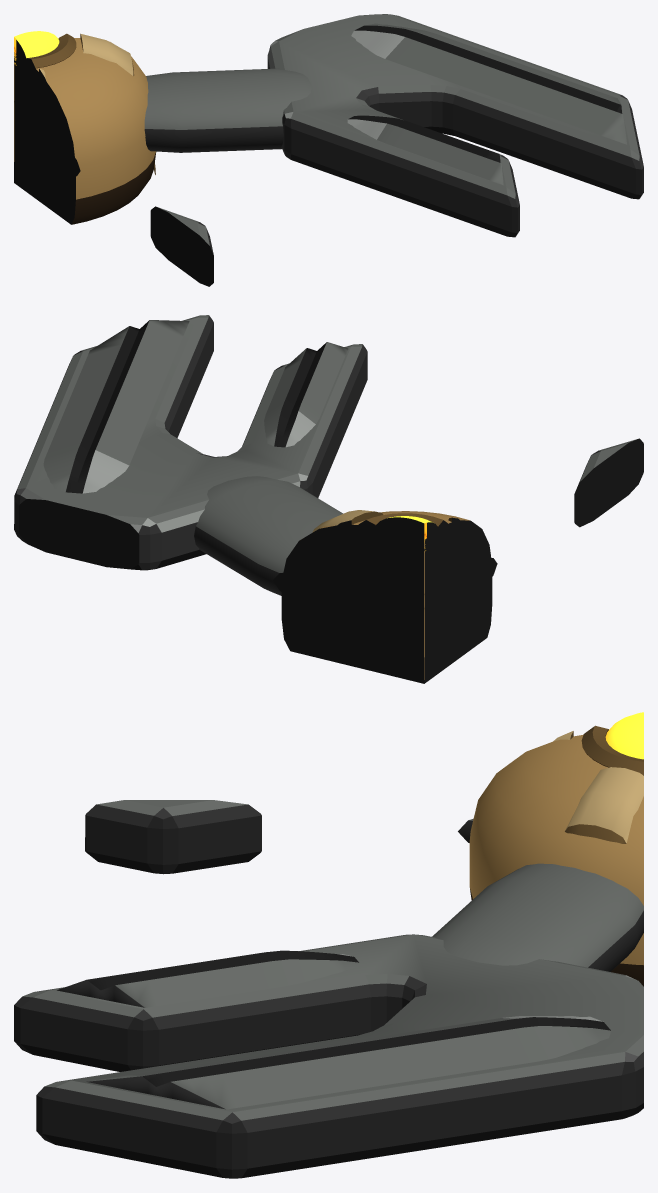
The model's file is spin_claw_53.glb.
3 renders of one model, top to bottom at view 1: azimuth 30°, elevation 25°; view 2: azimuth 150°, elevation 25°; view 3: azimuth 270°, elevation 25°, orthographic. The views are drawn at different scales.
Parts seen in each view (by area): view 1: spin_claw_53_arm1_plate, spin_claw_53_hub_dome, spin_claw_53_arm1_rod, spin_claw_53_arm1_ridge0, spin_claw_53_arm1_ridge1, spin_claw_53_arm2_plate, spin_claw_53_hub_lens, spin_claw_53_hub_rib1, spin_claw_53_hub_bezel, spin_claw_53_arm2_rod; view 2: spin_claw_53_arm1_plate, spin_claw_53_hub_dome, spin_claw_53_arm1_ridge0, spin_claw_53_arm1_rod, spin_claw_53_arm1_ridge1, spin_claw_53_arm2_plate, spin_claw_53_hub_lens, spin_claw_53_hub_bezel, spin_claw_53_arm2_rod, spin_claw_53_hub_rib1; view 3: spin_claw_53_arm1_plate, spin_claw_53_arm1_ridge0, spin_claw_53_hub_dome, spin_claw_53_arm1_rod, spin_claw_53_arm2_plate, spin_claw_53_arm1_ridge1, spin_claw_53_hub_rib1, spin_claw_53_hub_bezel, spin_claw_53_hub_lens.
Boxes of the visible parts, box(x1,y1,x2,y2) form: spin_claw_53_arm1_plate: box(267, 14, 643, 237); spin_claw_53_hub_dome: box(14, 38, 156, 224); spin_claw_53_arm1_rod: box(144, 68, 311, 152); spin_claw_53_arm1_ridge0: box(351, 23, 626, 144); spin_claw_53_arm1_ridge1: box(347, 115, 503, 185); spin_claw_53_arm2_plate: box(150, 206, 213, 286); spin_claw_53_hub_lens: box(14, 31, 59, 73); spin_claw_53_hub_rib1: box(80, 33, 155, 174); spin_claw_53_hub_bezel: box(14, 33, 76, 72); spin_claw_53_arm2_rod: box(53, 133, 80, 176); spin_claw_53_arm1_plate: box(14, 315, 367, 570); spin_claw_53_hub_dome: box(281, 511, 492, 683); spin_claw_53_arm1_ridge0: box(43, 320, 189, 493); spin_claw_53_arm1_rod: box(194, 476, 343, 612); spin_claw_53_arm1_ridge1: box(264, 342, 348, 447); spin_claw_53_arm2_plate: box(574, 438, 643, 527); spin_claw_53_hub_lens: box(374, 516, 438, 552); spin_claw_53_hub_bezel: box(358, 513, 447, 550); spin_claw_53_arm2_rod: box(468, 558, 497, 604); spin_claw_53_hub_rib1: box(312, 510, 383, 532); spin_claw_53_arm1_plate: box(14, 934, 643, 1178); spin_claw_53_arm1_ridge0: box(86, 1016, 610, 1109); spin_claw_53_hub_dome: box(469, 734, 643, 986); spin_claw_53_arm1_rod: box(432, 863, 643, 971); spin_claw_53_arm2_plate: box(85, 800, 261, 874); spin_claw_53_arm1_ridge1: box(57, 950, 359, 1007); spin_claw_53_hub_rib1: box(565, 767, 643, 843); spin_claw_53_hub_bezel: box(581, 725, 643, 775); spin_claw_53_hub_lens: box(605, 712, 643, 759).
Bounding box in the file's own units: 20.53 × 6.19 × 17.16.
